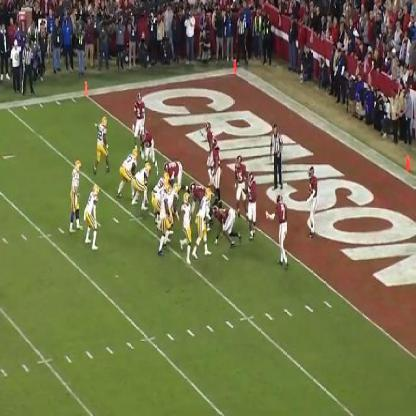CENTER: (152, 174, 168, 204)
DB: (270, 193, 292, 270), (304, 165, 318, 237), (132, 92, 146, 130), (202, 121, 215, 142)
LB: (244, 175, 259, 238), (208, 140, 225, 192), (235, 149, 244, 209)
QB: (69, 158, 83, 233)
SKILL: (84, 184, 100, 252), (93, 114, 110, 172), (183, 192, 192, 263), (201, 188, 207, 252)
